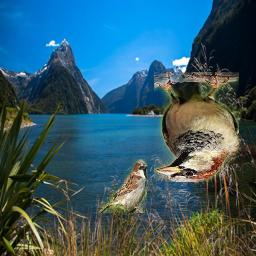Sparrow: (155, 72, 240, 182), (99, 159, 147, 213)
